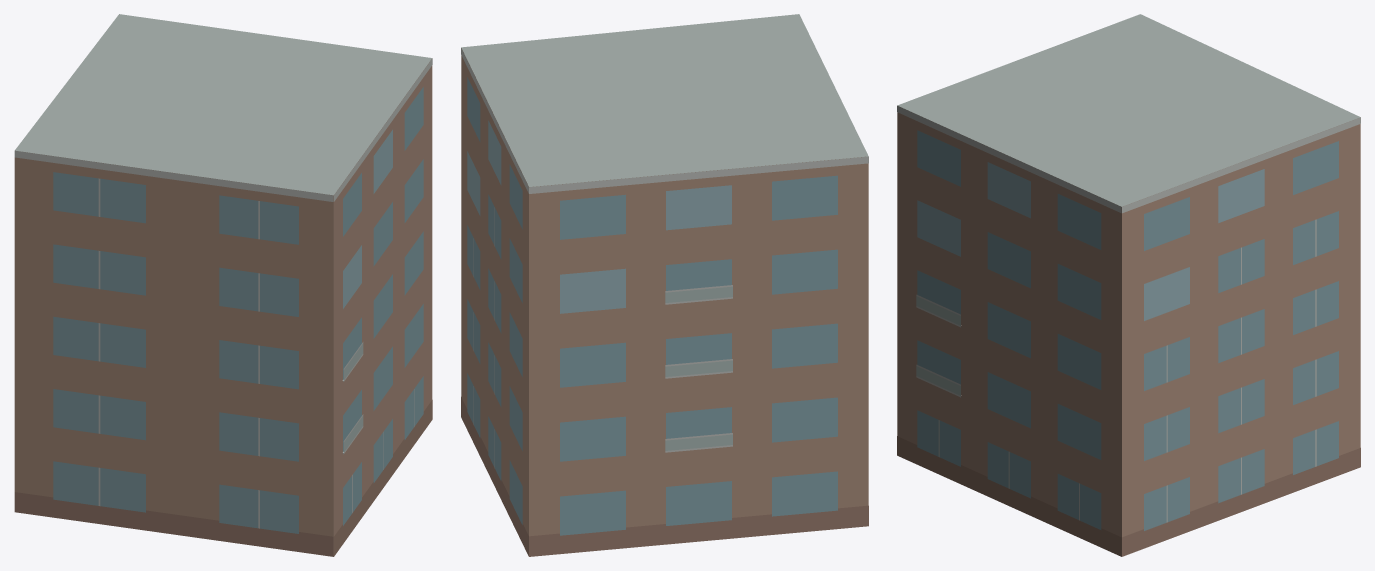
File: survey-upis-32841212.glb
3 renders of one model, left to right at view 1: azimuth 30°, elevation 25°; view 2: azimuth 150°, elevation 25°; view 3: azimuth 270°, elevation 25°, orthographic. The views are drawn at different scales.
Visible parts, largest first — view 1: survey-upis-32841212.tmp; view 2: survey-upis-32841212.tmp; view 3: survey-upis-32841212.tmp.
Boxes of the visible parts, left/top/right/bottom form: survey-upis-32841212.tmp: left=14, top=14, right=432, bottom=556; survey-upis-32841212.tmp: left=461, top=14, right=868, bottom=556; survey-upis-32841212.tmp: left=897, top=14, right=1360, bottom=556.
Size of the model in its own units: 15.25 by 12.9 by 15.49.
